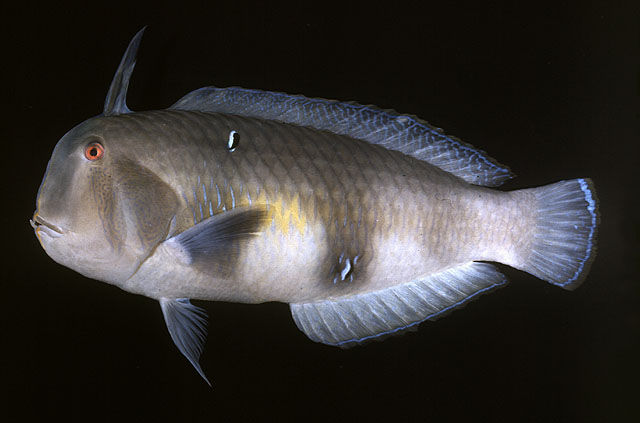fish: (32, 26, 600, 389)
